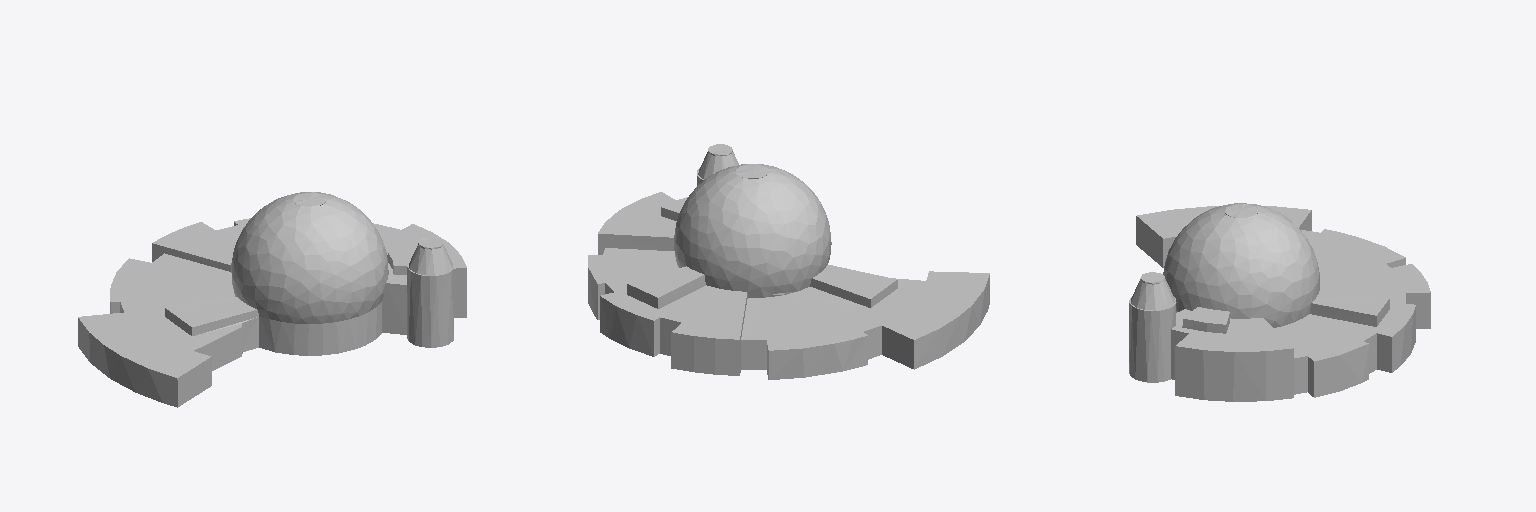
The model's file is Zeiss Planetarium_MAT_LOW.obj.
The picture shows the model from 3 angles: view 1: azimuth 30°, elevation 25°; view 2: azimuth 150°, elevation 25°; view 3: azimuth 270°, elevation 25°; orthographic projection.
Parts seen in each view (by area): view 1: 1_c_Komponente_1-Metall_Aluminium_eloxiert, 1_c_Komponente_1-Farbe_006, 1_c_Komponente_1-Lichtdurchlssig_Glas_grau, 1_c_Komponente_1-Stein_gebrstet_khaki; view 2: 1_c_Komponente_1-Farbe_006, 1_c_Komponente_1-Metall_Aluminium_eloxiert, 1_c_Komponente_1-Stein_gebrstet_khaki, 1_c_Komponente_1-Lichtdurchlssig_Glas_grau; view 3: 1_c_Komponente_1-Metall_Aluminium_eloxiert, 1_c_Komponente_1-Farbe_006, 1_c_Komponente_1-Stein_gebrstet_khaki, 1_c_Komponente_1-Lichtdurchlssig_Glas_grau.
Boxes of the visible parts, x1=… form: 1_c_Komponente_1-Metall_Aluminium_eloxiert: x1=231, y1=192, x2=453, y2=347; 1_c_Komponente_1-Farbe_006: x1=78, y1=218, x2=466, y2=377; 1_c_Komponente_1-Lichtdurchlssig_Glas_grau: x1=120, y1=244, x2=452, y2=355; 1_c_Komponente_1-Stein_gebrstet_khaki: x1=78, y1=222, x2=466, y2=407; 1_c_Komponente_1-Farbe_006: x1=588, y1=192, x2=989, y2=350; 1_c_Komponente_1-Metall_Aluminium_eloxiert: x1=674, y1=164, x2=831, y2=297; 1_c_Komponente_1-Stein_gebrstet_khaki: x1=588, y1=207, x2=989, y2=379; 1_c_Komponente_1-Lichtdurchlssig_Glas_grau: x1=605, y1=152, x2=881, y2=369; 1_c_Komponente_1-Metall_Aluminium_eloxiert: x1=1129, y1=203, x2=1319, y2=382; 1_c_Komponente_1-Farbe_006: x1=1137, y1=206, x2=1430, y2=361; 1_c_Komponente_1-Stein_gebrstet_khaki: x1=1136, y1=210, x2=1430, y2=401; 1_c_Komponente_1-Lichtdurchlssig_Glas_grau: x1=1131, y1=237, x2=1389, y2=394.
Size of the model in its own units: 790 by 275 by 603.